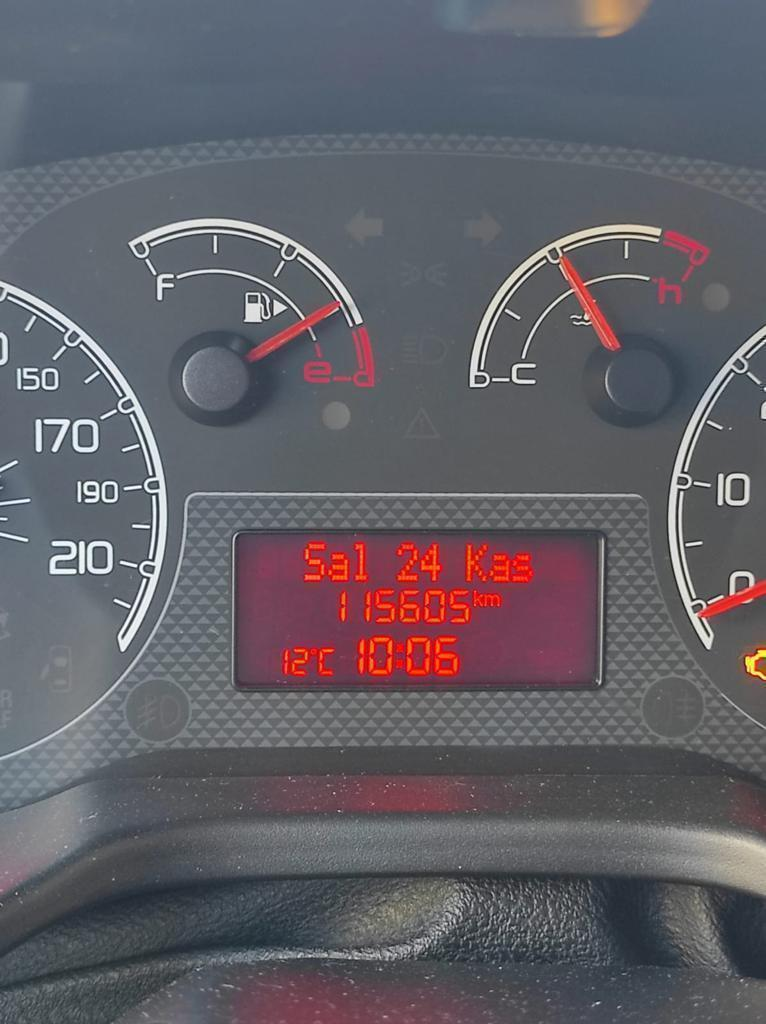0: (367, 635, 394, 676), (405, 635, 431, 675), (422, 588, 446, 624)
1: (356, 637, 365, 674), (363, 590, 372, 623), (338, 590, 347, 623), (282, 648, 289, 676)
2: (395, 542, 418, 582), (290, 647, 309, 676)
4: (420, 542, 442, 581)
5: (448, 588, 471, 623), (374, 588, 396, 623)
6: (433, 635, 459, 675), (398, 589, 421, 624)
X: (302, 541, 328, 582), (464, 542, 488, 582), (327, 552, 350, 582), (511, 553, 534, 582), (352, 541, 368, 581), (488, 553, 510, 582), (317, 647, 335, 676), (394, 641, 404, 669), (483, 592, 501, 607), (472, 589, 483, 608)
odometer: (229, 527, 605, 693)
